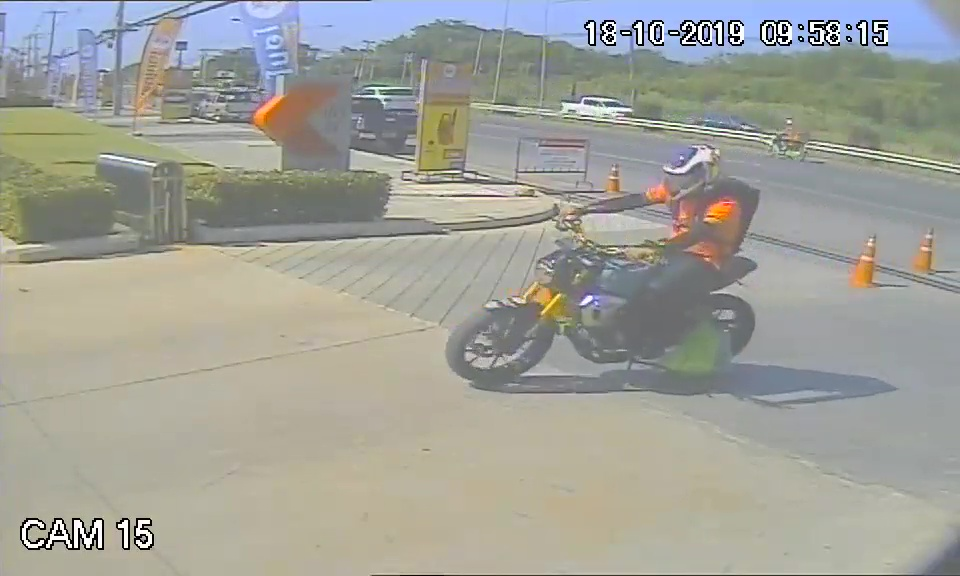motorcycle: (442, 232, 759, 386)
